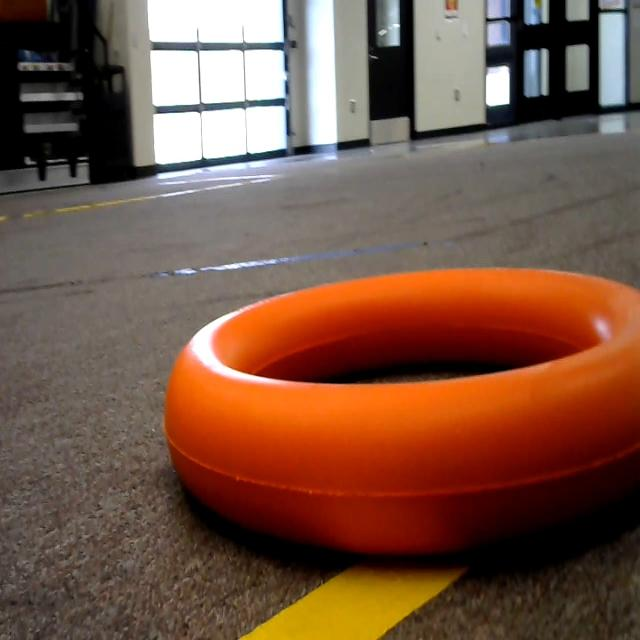note: (137, 256, 640, 608)
